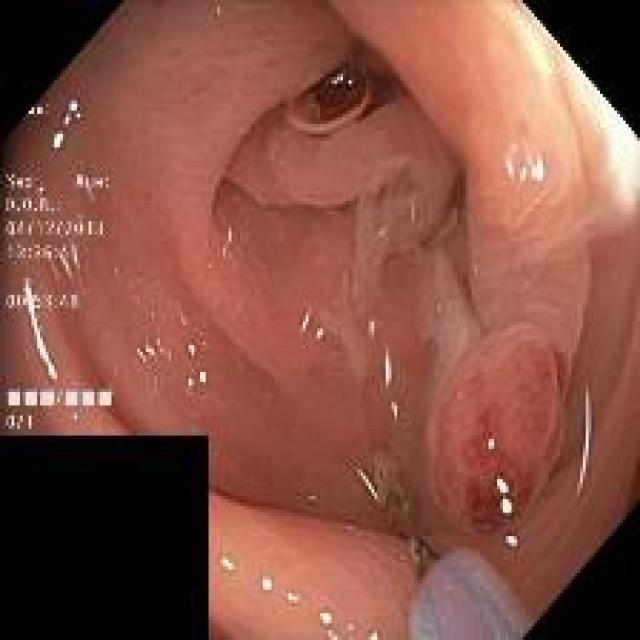Polyps: (429, 323, 570, 532)
